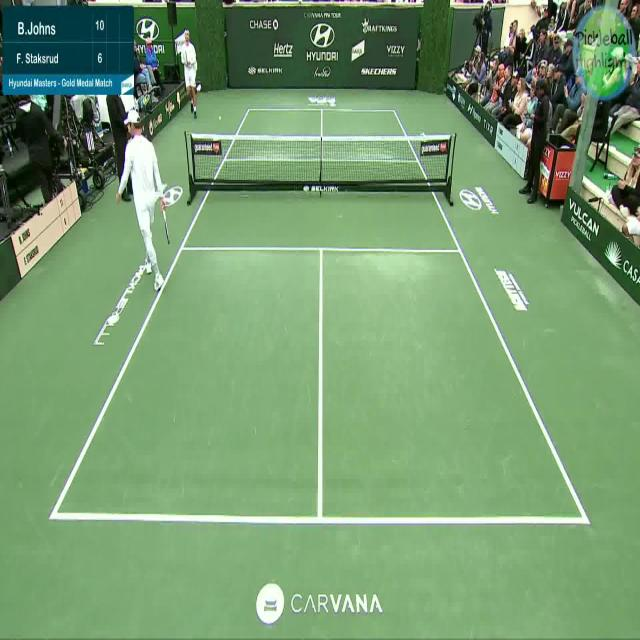ball: (218, 115, 221, 121)
